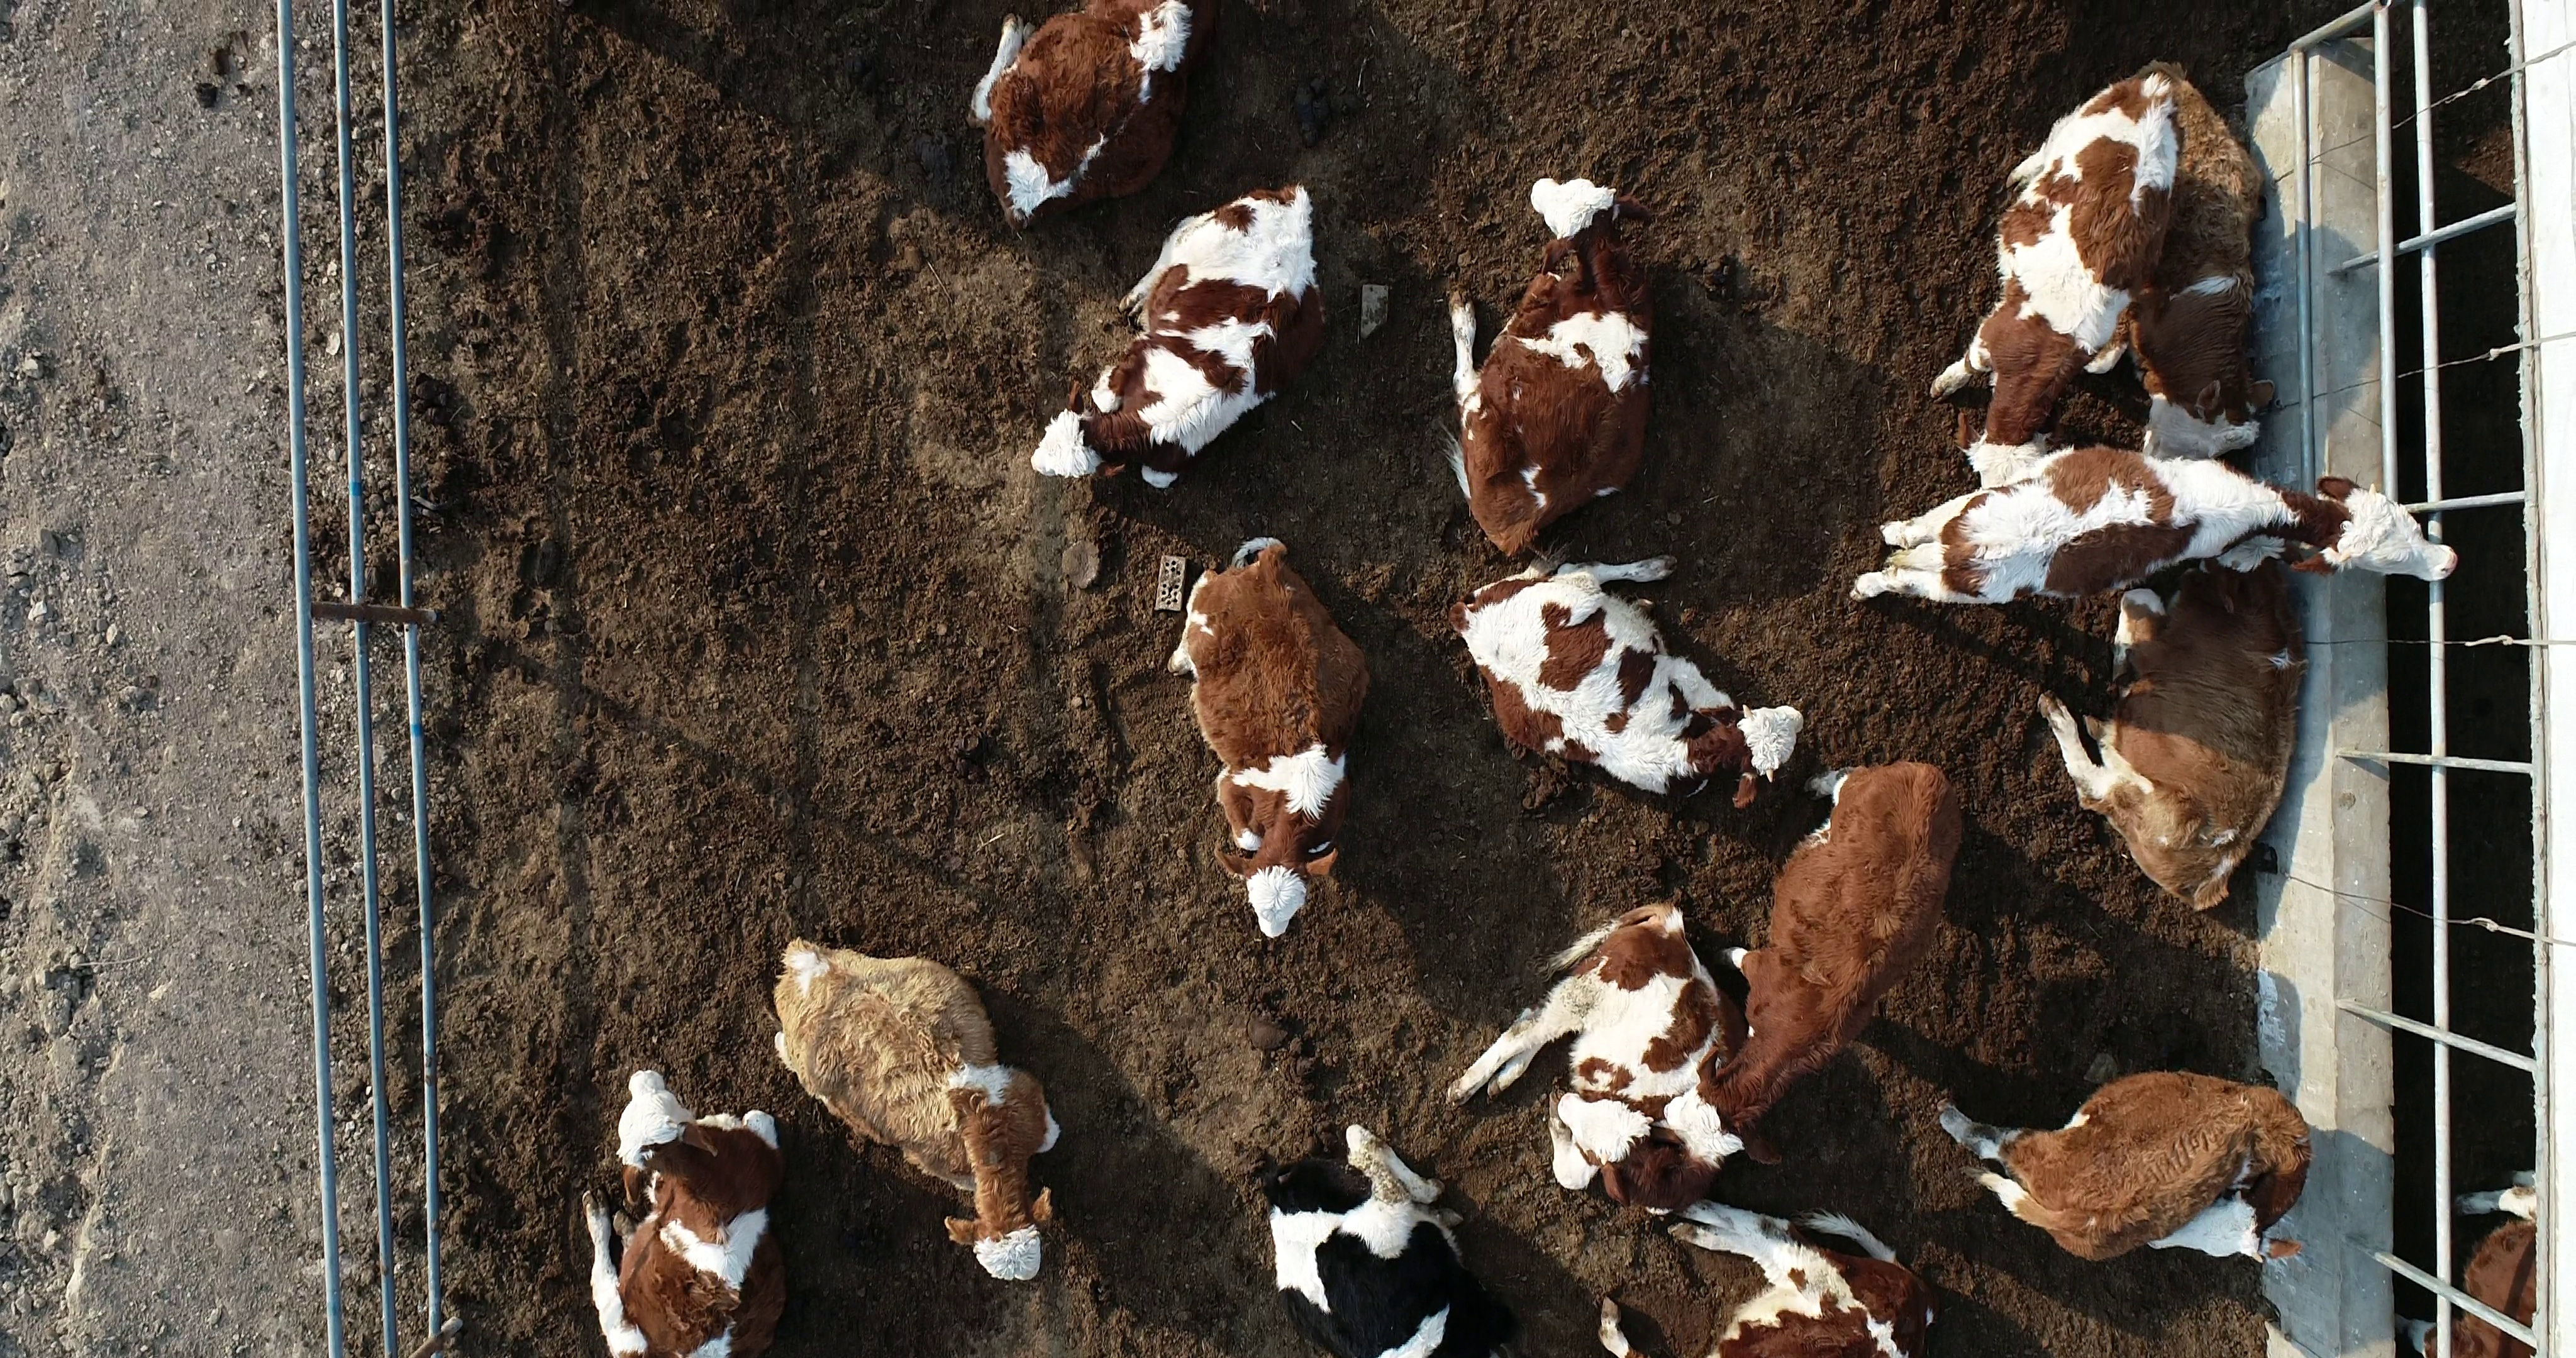cattle: (1925, 70, 2188, 484), (1843, 443, 2464, 608), (1026, 181, 1336, 496), (1435, 174, 1658, 564)
